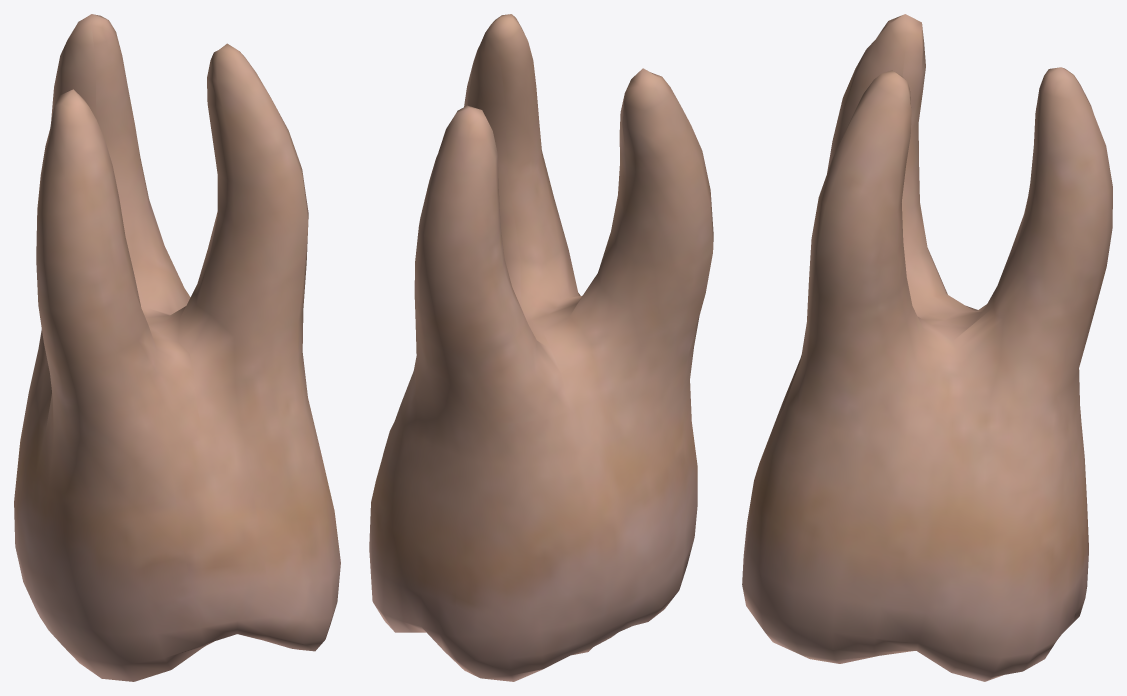
The picture shows the model from 3 angles, left to right: view 1: azimuth 30°, elevation 25°; view 2: azimuth 150°, elevation 25°; view 3: azimuth 270°, elevation 25°; orthographic projection. The views are drawn at different scales.
Visible parts, largest first — view 1: t_27; view 2: t_27; view 3: t_27.
Part boxes in pixels (x1,y1,x2,y2): t_27: (14, 14, 340, 681); t_27: (369, 14, 713, 681); t_27: (742, 14, 1112, 681).
Bounding box in the file's own units: 0.0915 × 0.1852 × 0.1049.
1 material, 1 textured.
